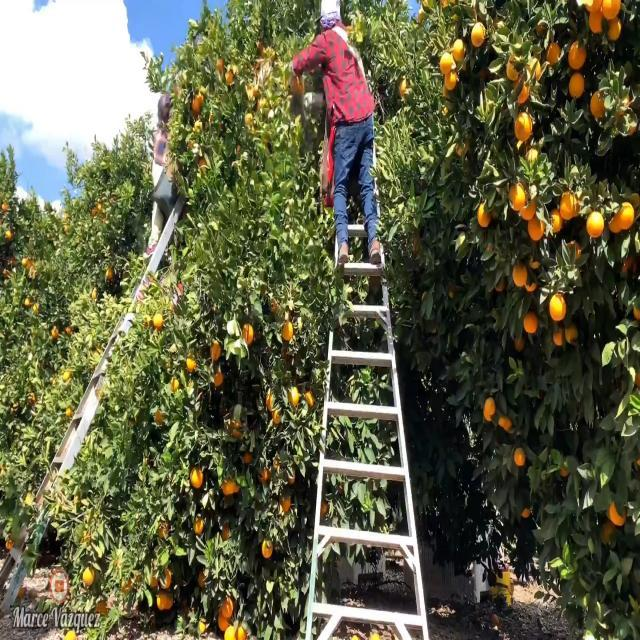Jeruk Sudah Matang: (586, 207, 603, 245)
